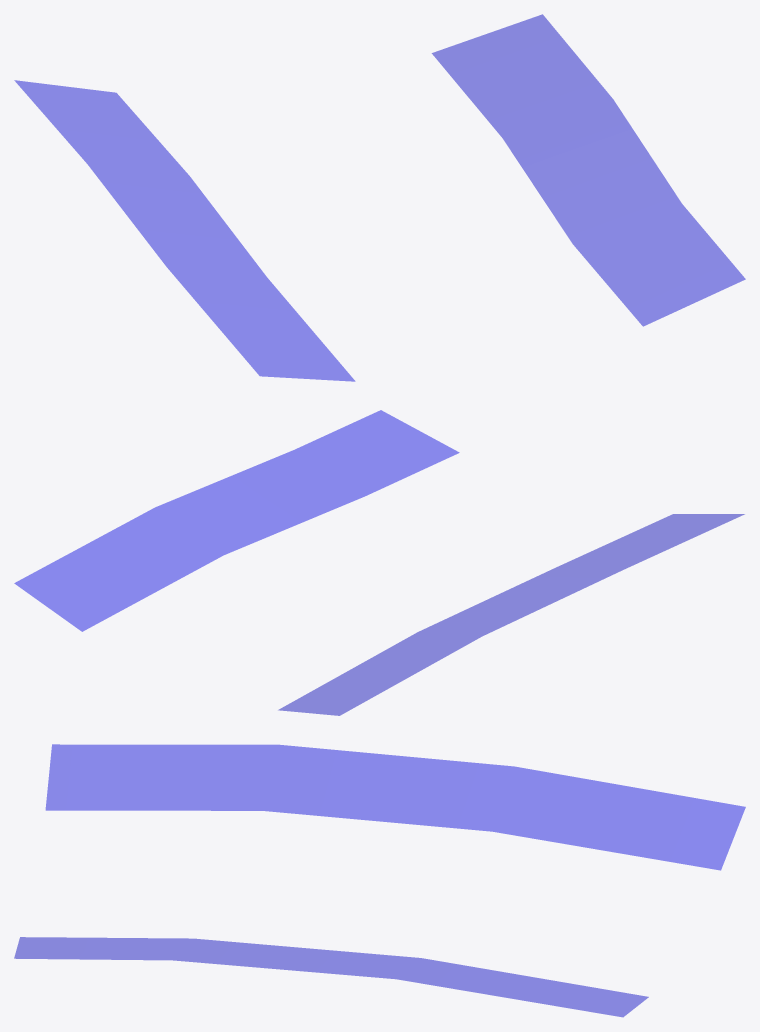
Rendered from track_la_coll_off_16.fbx.
3 views of the same model, one above another, from view 1: azimuth 30°, elevation 25°; view 2: azimuth 150°, elevation 25°; view 3: azimuth 270°, elevation 25° (orthographic). The views are drawn at different scales.
Visible parts, largest first — view 1: track_la_coll_off_16; view 2: track_la_coll_off_16; view 3: track_la_coll_off_16.
Boxes of the visible parts, x1=… form: track_la_coll_off_16: x1=14, y1=14, x2=745, y2=381; track_la_coll_off_16: x1=14, y1=410, x2=744, y2=715; track_la_coll_off_16: x1=14, y1=744, x2=745, y2=1017.
Bounding box in the file's own units: 45.47 × 3.24 × 52.38.
